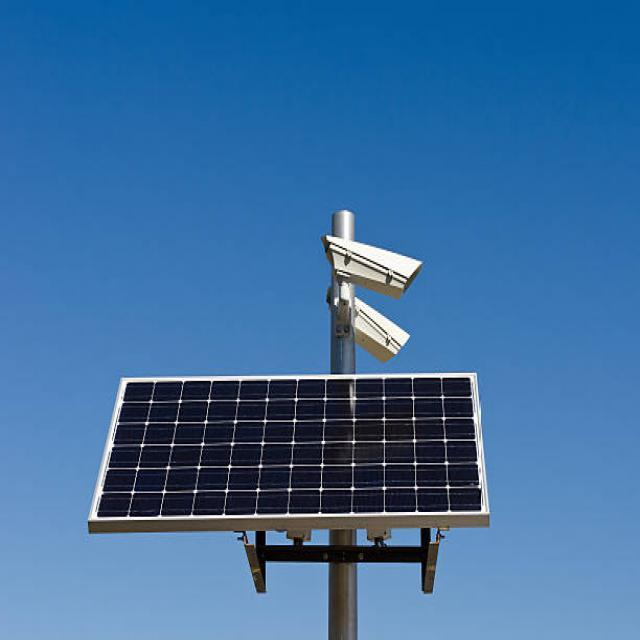no faulty: (89, 373, 486, 523)
